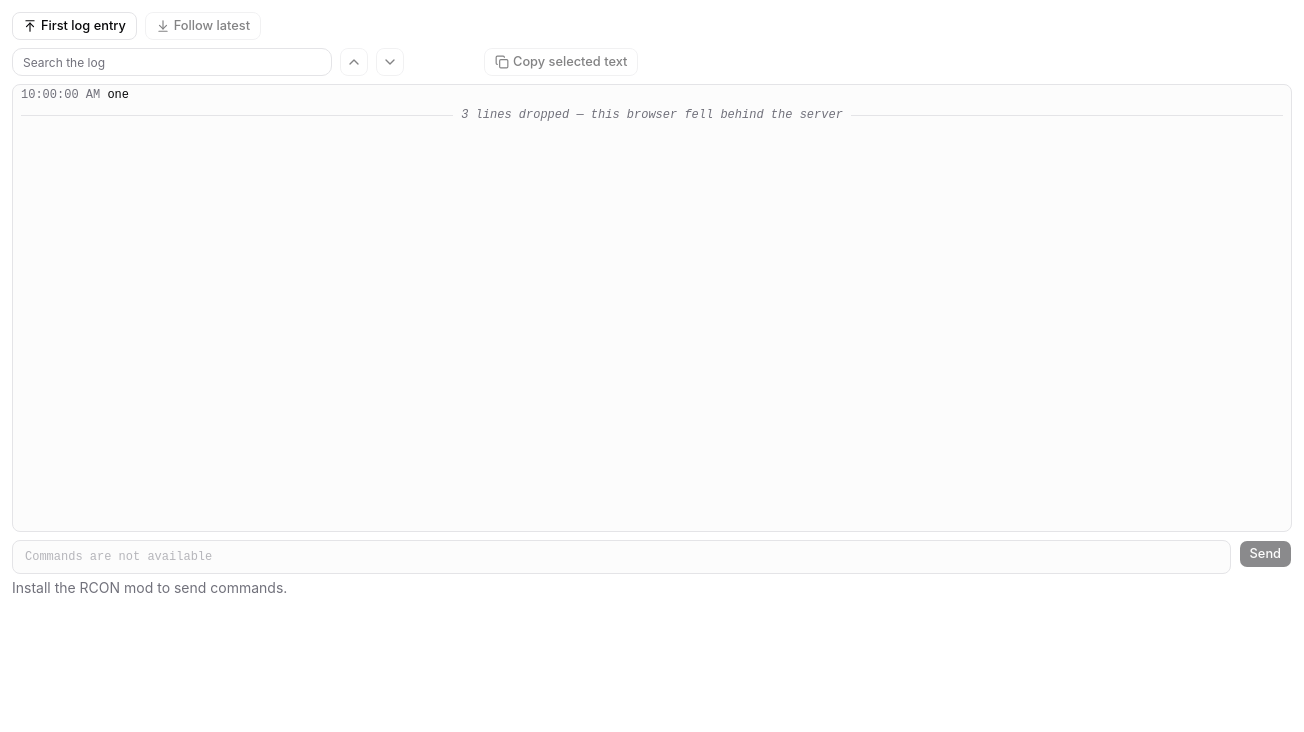
Test: searching the console › does not match the notices between lines
Expected: the text "3 lines dropped — this browser fell behind the server" is shown, [461,108,843,122]
Type "dropped" into the search field named "Search the console". click: {"x": 172, "y": 62}
box: [12,48,332,76]
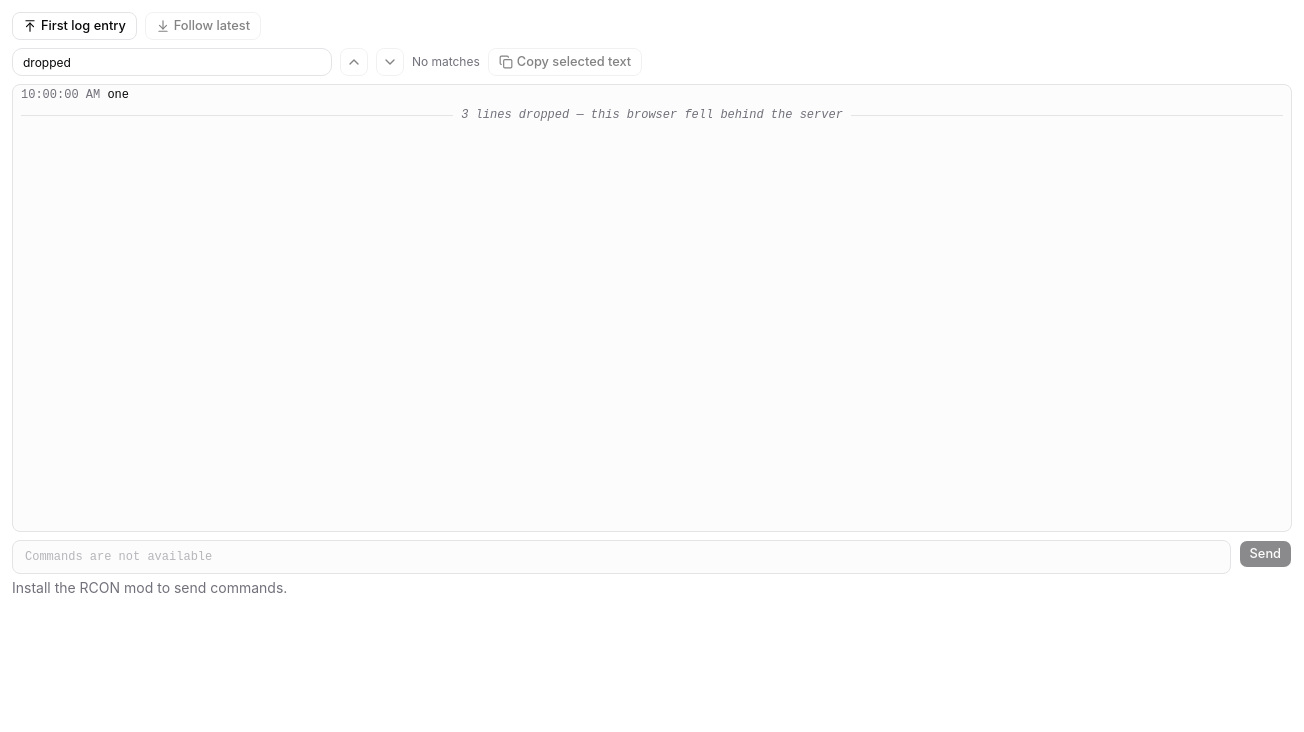
Now the text "No matches" is shown, box [412,54,480,70]
